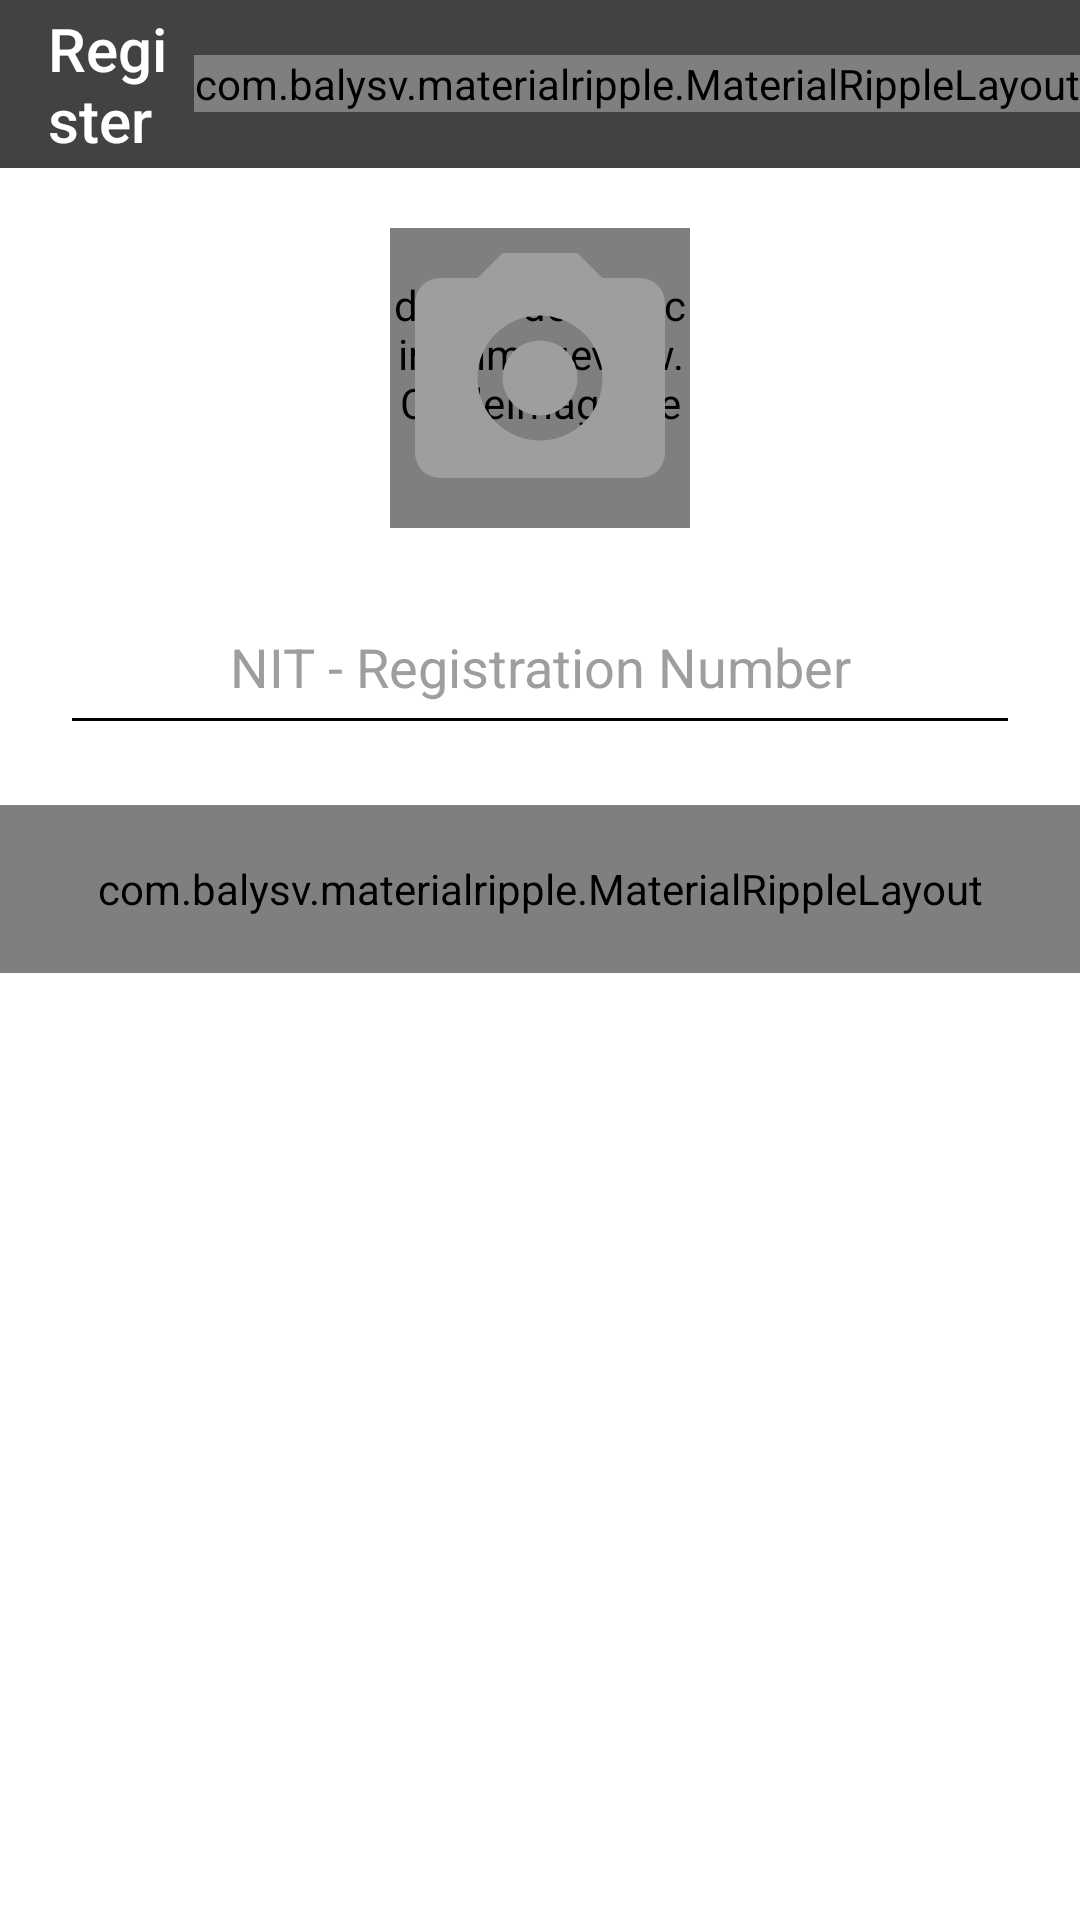

Screen size 1080px x 1920px. Icon name, then its center in pixels as (x,y):
camera: (540,378)
